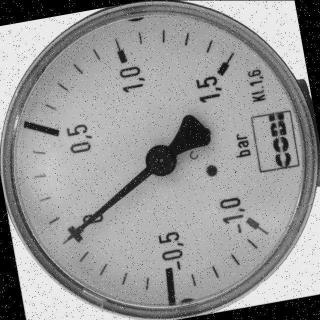gauge: (0, 0, 320, 320), (196, 49, 241, 93), (228, 198, 269, 245), (144, 144, 178, 176), (58, 232, 75, 250)
